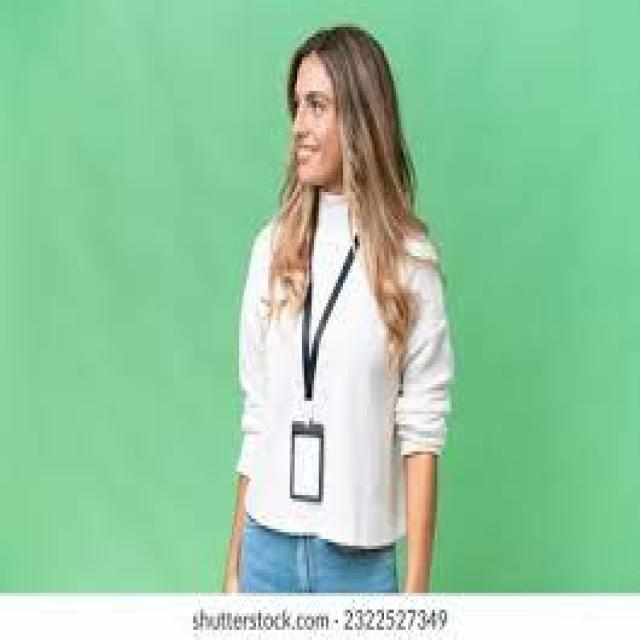id_card: (288, 216, 337, 505)
